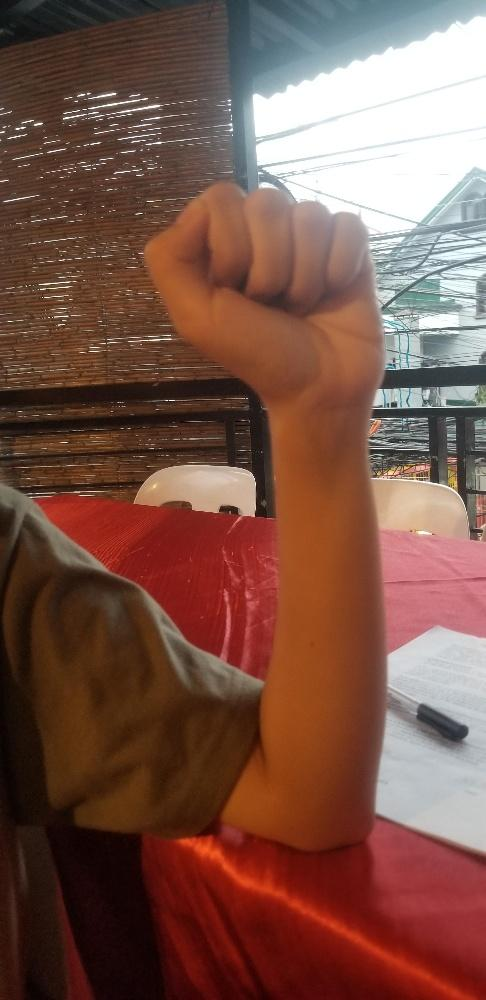a: (139, 176, 386, 403)
